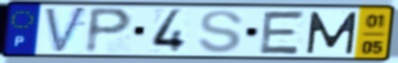4: (148, 7, 189, 56)
E: (257, 9, 309, 56)
M: (304, 10, 360, 55)
P: (83, 6, 136, 56)
S: (196, 9, 246, 55)
V: (43, 5, 91, 56)
